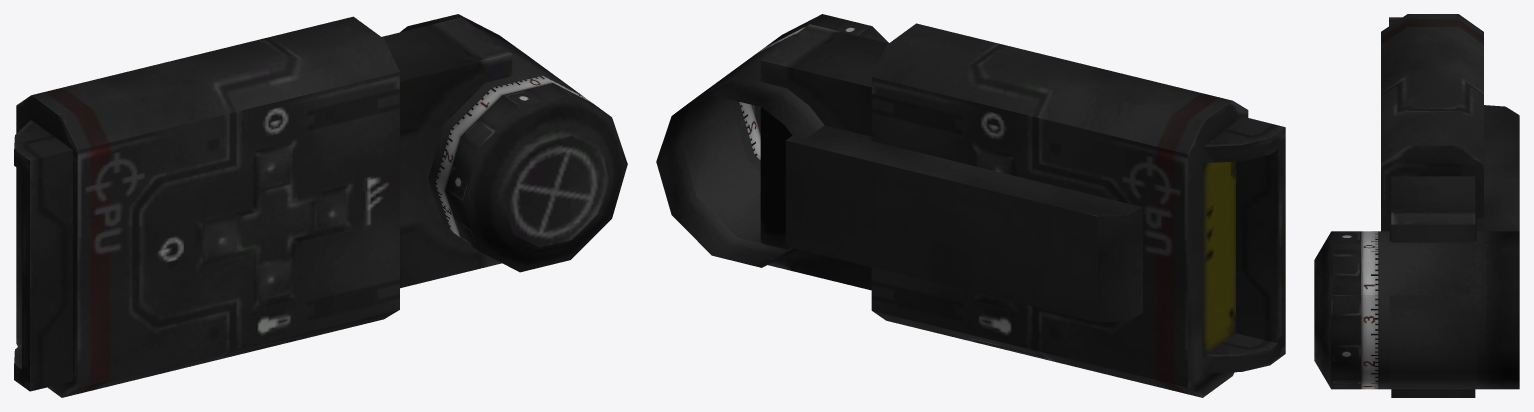
File: t6_attach_bcpu_world_LOD1.obj
3 renders of one model, left to right at view 1: azimuth 30°, elevation 25°; view 2: azimuth 150°, elevation 25°; view 3: azimuth 270°, elevation 25°, orthographic. The views are drawn at different scales.
Parts seen in each view (by area): view 1: mtl_t6_attach_bcpu; view 2: mtl_t6_attach_bcpu; view 3: mtl_t6_attach_bcpu.
Part boxes in pixels (x1,y1,x2,y2): mtl_t6_attach_bcpu: (14,14,627,397); mtl_t6_attach_bcpu: (656,14,1285,397); mtl_t6_attach_bcpu: (1314,14,1519,397).
Bounding box in the file's own units: 10.09 × 4.8 × 3.81.
